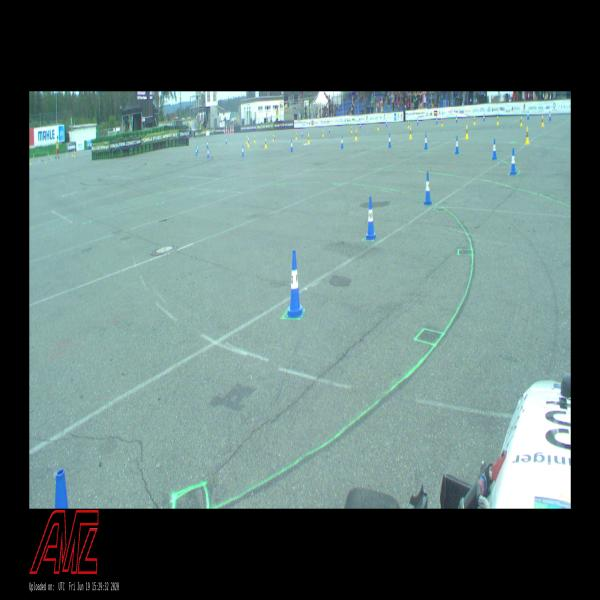blue_cone: (286, 250, 304, 318), (366, 197, 376, 240), (424, 171, 432, 205), (510, 147, 517, 175), (492, 138, 497, 160), (455, 135, 459, 155), (424, 133, 428, 149), (388, 133, 391, 148), (340, 135, 343, 149), (290, 140, 293, 152), (207, 148, 210, 158), (549, 110, 551, 121), (527, 110, 529, 120), (242, 146, 244, 156), (196, 147, 198, 156), (456, 115, 458, 123), (483, 114, 485, 121), (436, 117, 438, 124), (417, 118, 419, 124), (359, 122, 361, 128), (197, 144, 198, 153), (207, 140, 208, 148), (274, 132, 275, 140), (226, 137, 227, 144), (302, 130, 303, 137), (386, 120, 387, 127), (329, 127, 330, 133), (49, 155, 50, 161), (42, 158, 43, 162)
yellow_cone: (524, 126, 530, 145), (465, 124, 469, 139), (409, 126, 412, 140), (541, 116, 544, 127), (473, 116, 476, 126), (496, 116, 499, 125), (355, 129, 357, 141), (407, 120, 410, 128), (308, 133, 310, 144), (520, 116, 522, 126), (265, 138, 267, 148), (246, 135, 248, 145), (248, 138, 250, 148), (295, 132, 297, 140), (377, 122, 379, 130), (254, 135, 256, 143), (441, 118, 443, 126), (322, 130, 324, 137), (50, 155, 52, 161), (66, 152, 68, 158), (273, 134, 274, 142), (74, 150, 75, 158), (45, 157, 46, 164), (39, 156, 40, 162), (72, 151, 73, 157), (351, 127, 352, 133), (30, 160, 31, 165)
